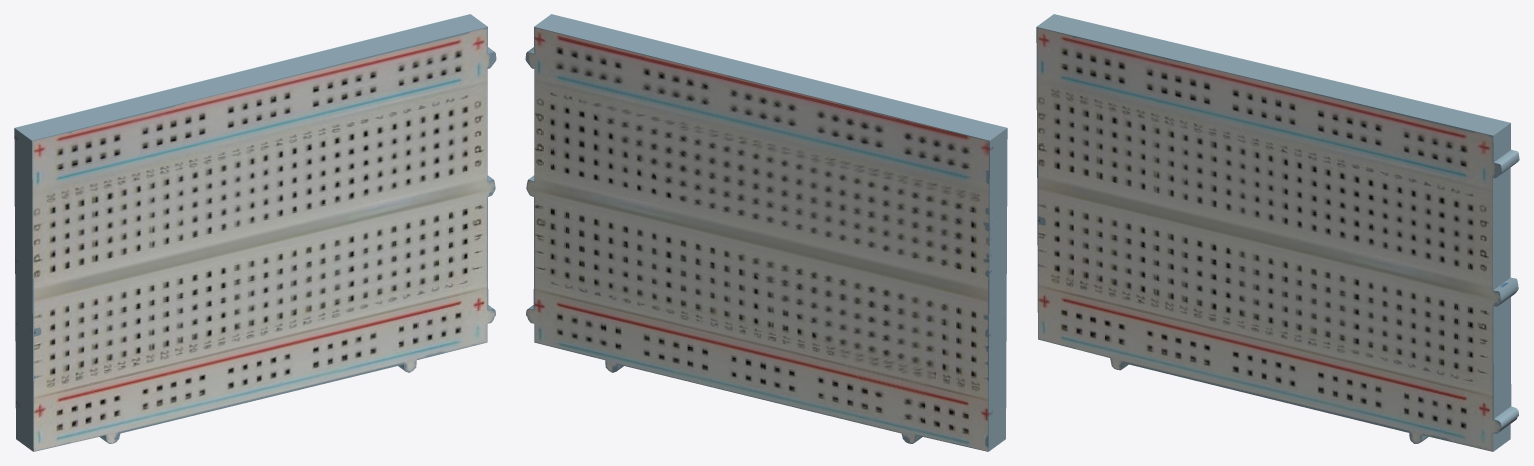
The model's file is breadboard.glb.
3 renders of one model, left to right at view 1: azimuth 30°, elevation 25°; view 2: azimuth 150°, elevation 25°; view 3: azimuth 330°, elevation 25°, orthographic.
Visible parts, largest first — view 1: Object_5; view 2: Object_5; view 3: Object_5.
Part boxes in pixels (x1,y1,x2,y2): Object_5: [14, 14, 496, 451]; Object_5: [525, 14, 1007, 451]; Object_5: [1036, 14, 1519, 451].
Size of the model in its own units: 0.3655 by 0.2456 by 0.0239.
Materials: 1 (1 with a texture image).
